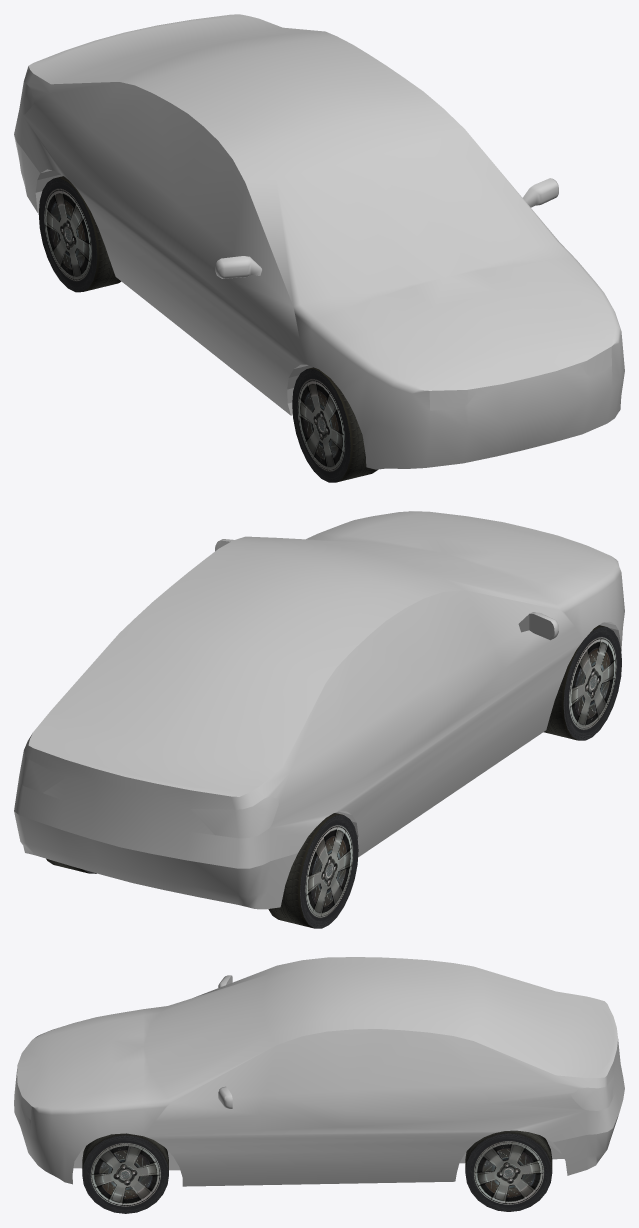
Rendered from Vesta.fbx.
3 views of the same model, one above another, from view 1: azimuth 30°, elevation 25°; view 2: azimuth 150°, elevation 25°; view 3: azimuth 270°, elevation 25° (orthographic). The views are drawn at different scales.
Parts seen in each view (by area): view 1: Car, FR, BR, Car ON; view 2: Car, BR, FR, Car ON; view 3: Car, BL, FL, Car ON.
Part boxes in pixels (left/top/right/bottom): Car: left=14, top=14, right=624, bottom=469; FR: left=292, top=367, right=378, bottom=482; BR: left=38, top=176, right=121, bottom=292; Car ON: left=19, top=82, right=611, bottom=410; Car: left=14, top=511, right=624, bottom=909; BR: left=268, top=813, right=358, bottom=928; FR: left=543, top=625, right=621, bottom=740; Car ON: left=19, top=750, right=278, bottom=838; Car: left=14, top=957, right=624, bottom=1186; BL: left=465, top=1130, right=552, bottom=1211; FL: left=82, top=1133, right=168, bottom=1213; Car ON: left=20, top=1075, right=614, bottom=1119.
Bounding box in the file's own units: 2.19 × 1.48 × 4.59.
